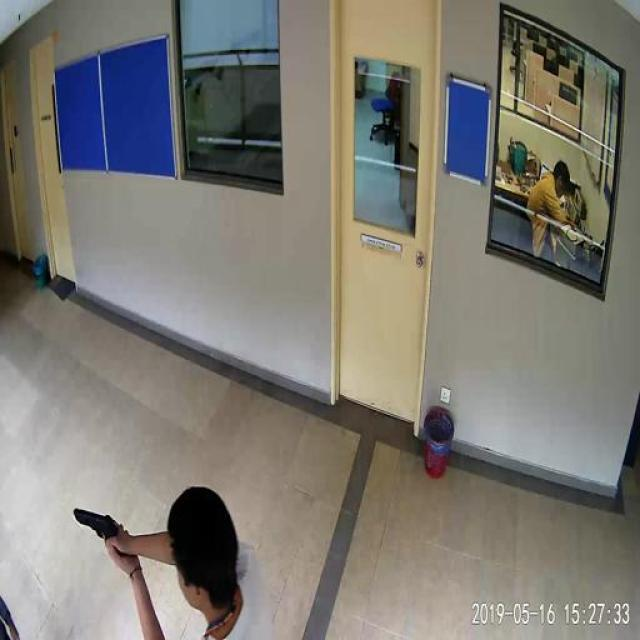Gun: (62, 495, 130, 553)
